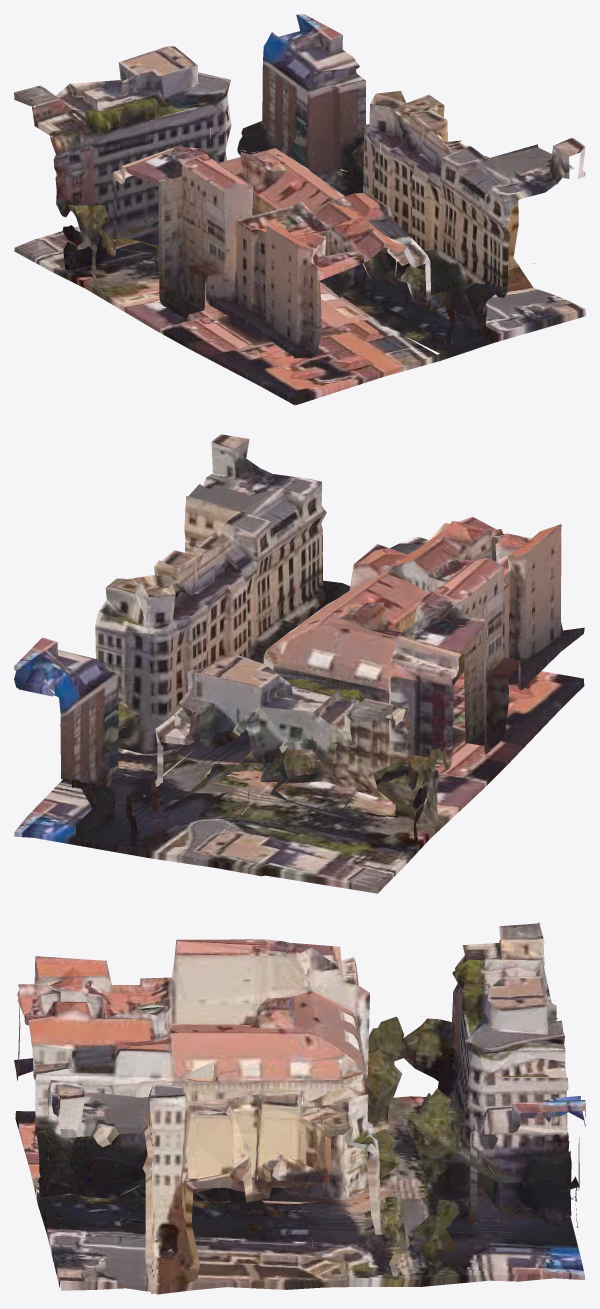
The picture shows the model from 3 angles, top to bottom: view 1: azimuth 30°, elevation 25°; view 2: azimuth 150°, elevation 25°; view 3: azimuth 270°, elevation 25°; orthographic projection. The views are drawn at different scales.
Visible parts, largest first — view 1: Mesh_0; view 2: Mesh_0; view 3: Mesh_0.
Part boxes in pixels (left/top/right/bottom): Mesh_0: left=14, top=14, right=585, bottom=405; Mesh_0: left=14, top=434, right=584, bottom=893; Mesh_0: left=14, top=922, right=585, bottom=1294.
Bounding box in the file's own units: 66.59 × 32.99 × 82.58.
Materials: 1 (1 with a texture image).
